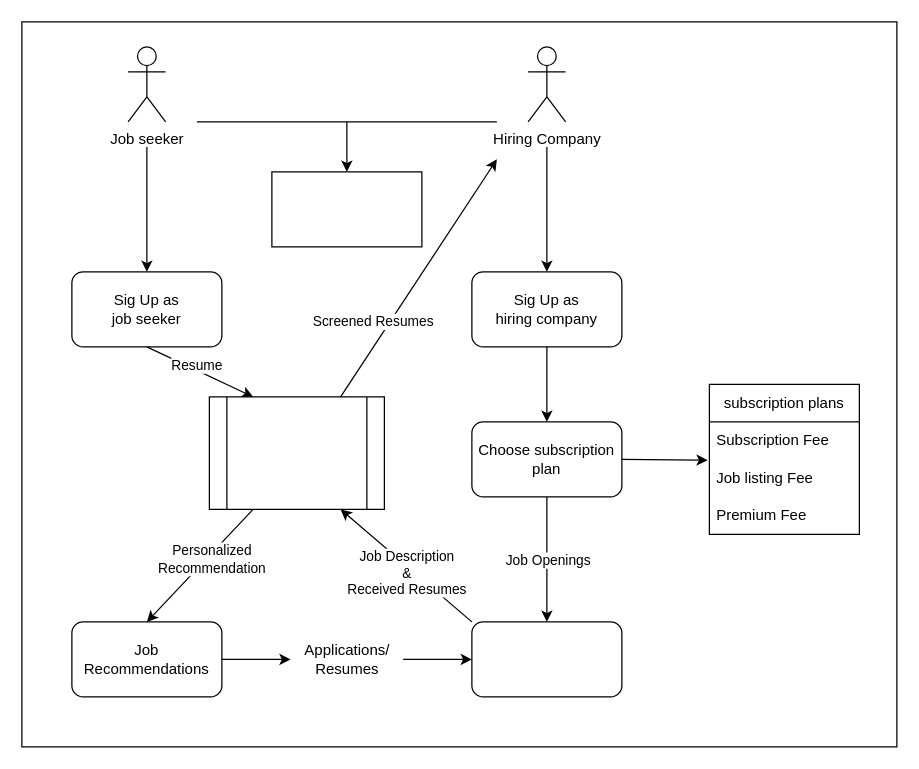
Some shapes in this 919 by 769 pixel diagram are drawn without their labels. Each missing label, with the centre of its shape:
"Customer Support" goes at pixel 346 209.
"Jobs" goes at pixel 546 659.
"Machine Learning model" goes at pixel 296 452.
